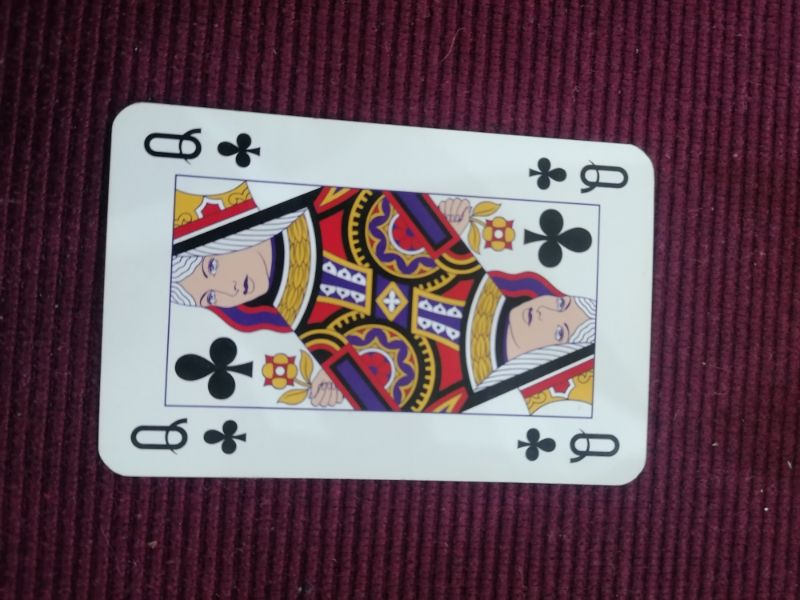Qc: (138, 120, 263, 172), (128, 413, 251, 459), (525, 154, 634, 199), (514, 425, 622, 467)
